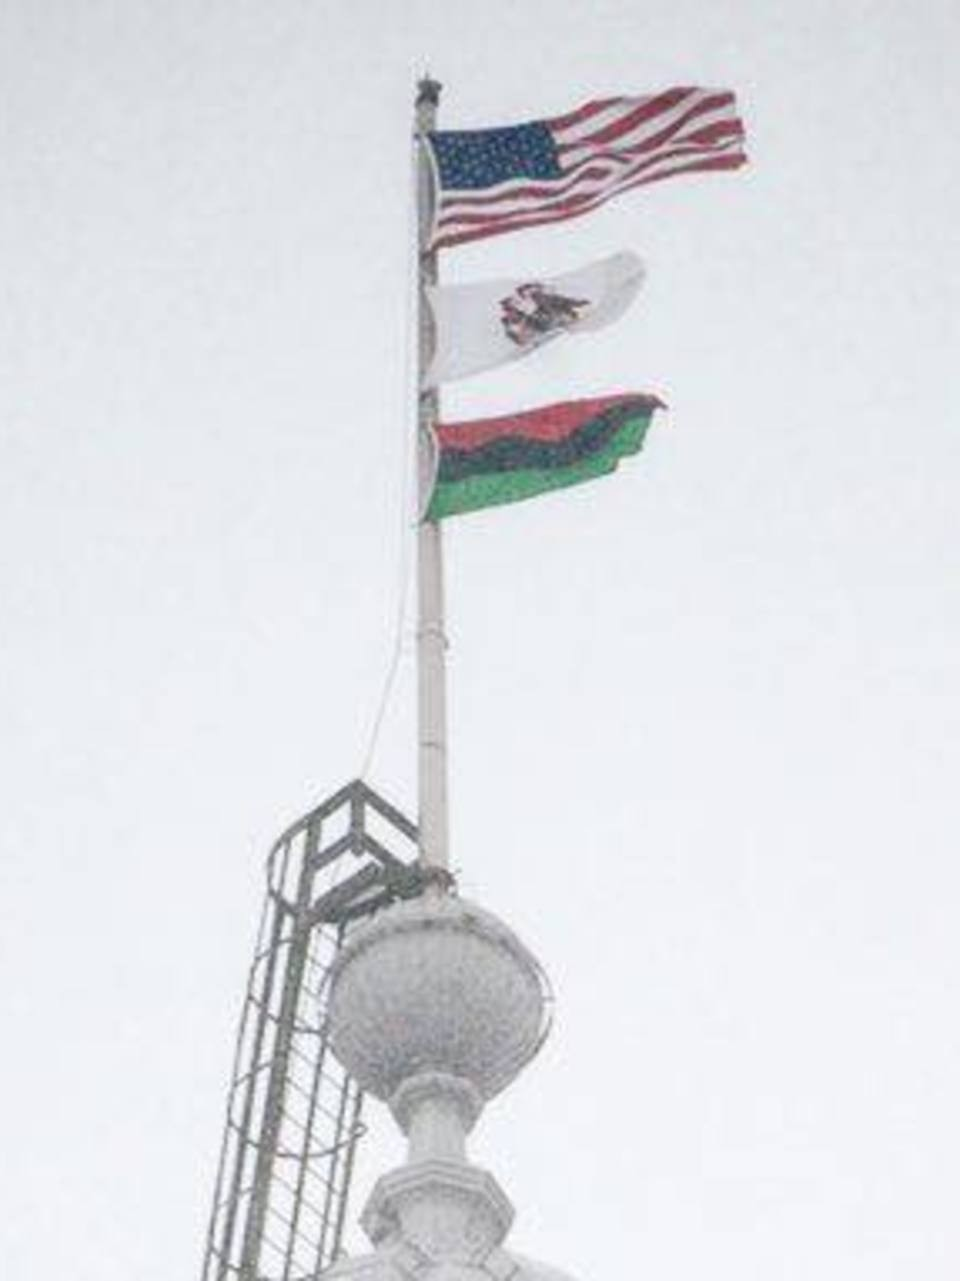Flag: (418, 90, 762, 247), (404, 389, 668, 539), (417, 229, 659, 388)
